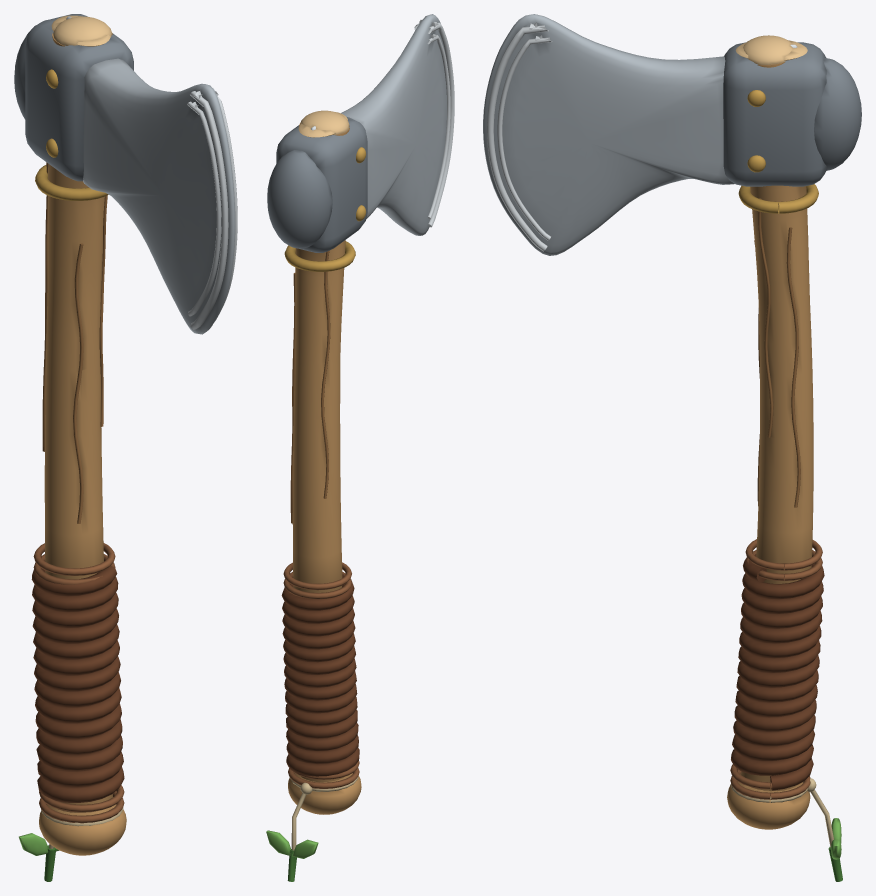
The model's file is axe.glb.
3 views of the same model, side by side, from view 1: azimuth 30°, elevation 25°; view 2: azimuth 150°, elevation 25°; view 3: azimuth 270°, elevation 25° (orthographic). The views are drawn at different scales.
Parts seen in each view (by area): view 1: axe; view 2: axe; view 3: axe.
Boxes of the visible parts, x1,y1,x2,y2 form: axe: [14, 14, 237, 881]; axe: [266, 14, 454, 881]; axe: [483, 14, 861, 881].
Size of the model in its own units: 0.0598 by 0.635 by 0.252.
